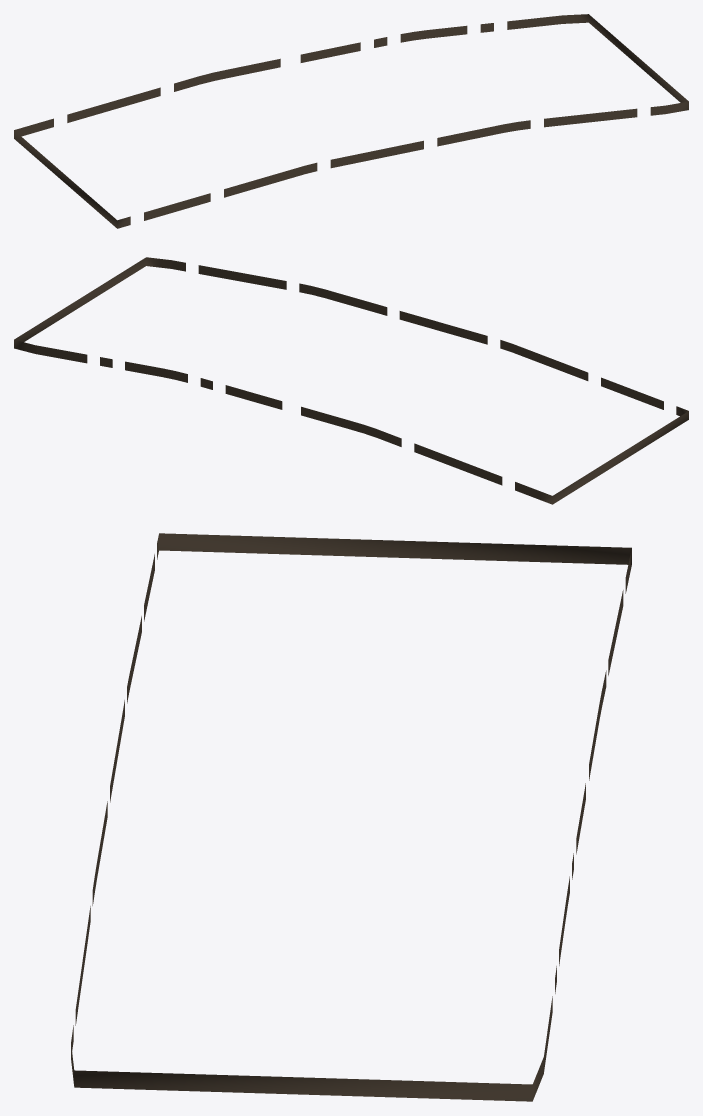
The picture shows the model from 3 angles, top to bottom: view 1: azimuth 30°, elevation 25°; view 2: azimuth 150°, elevation 25°; view 3: azimuth 270°, elevation 25°; orthographic projection. The views are drawn at different scales.
Parts seen in each view (by area): view 1: prototype; view 2: prototype; view 3: prototype.
Part boxes in pixels (x1,y1,x2,y2): prototype: (14,14,688,228); prototype: (14,257,688,504); prototype: (71,533,631,1101).
Bounding box in the file's own units: 22.01 × 0.9465 × 9.47.
